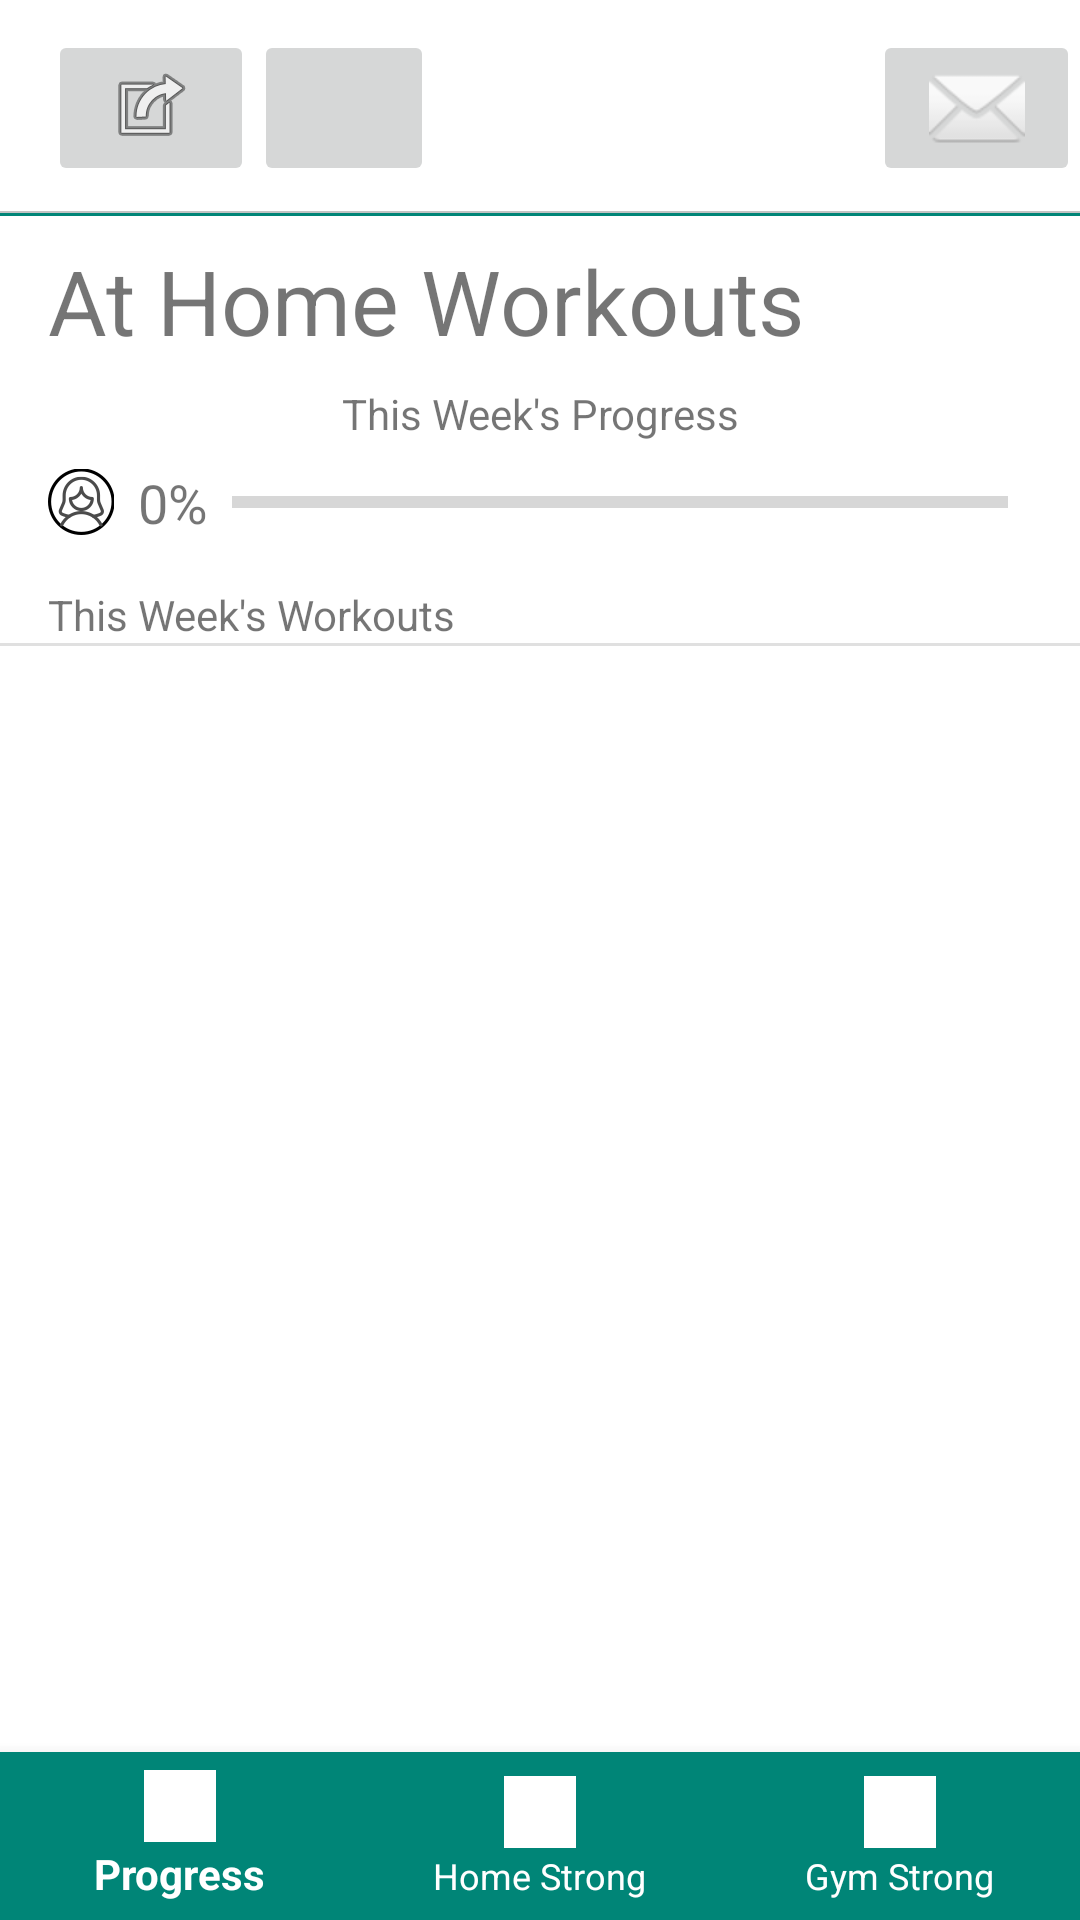

Locate icon controls on the screen. Image size 1080w x 1920h, boxes as box(x1, y1, x2, y2).
email: box(885, 48, 1068, 168)
